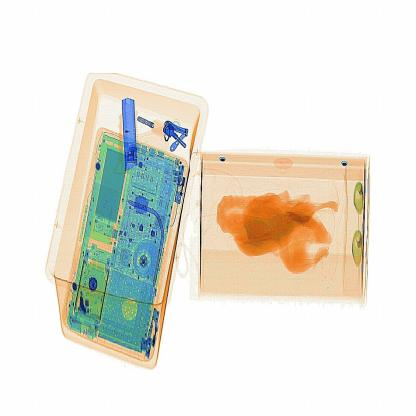pliers: (114, 93, 144, 174)
